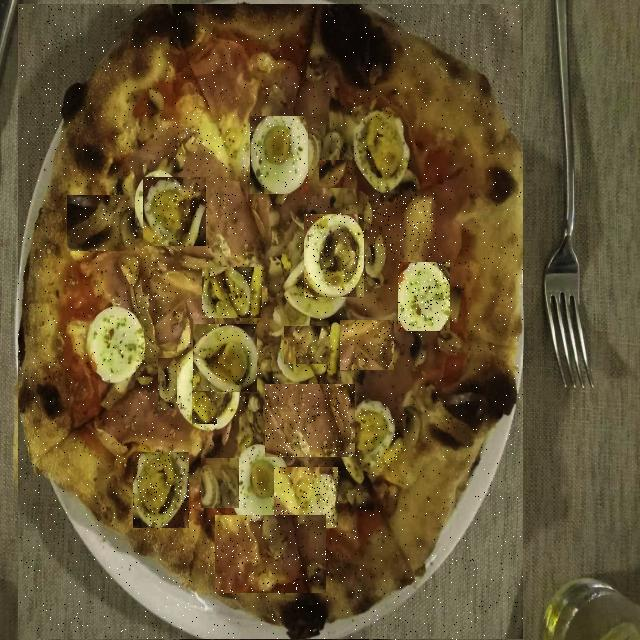Eggs: (304, 214, 364, 297), (250, 116, 308, 194), (144, 177, 208, 246), (193, 324, 257, 392), (133, 452, 189, 528), (274, 467, 338, 528), (398, 262, 451, 331), (202, 267, 262, 318), (358, 408, 405, 473), (192, 392, 217, 426)
Ham: (215, 515, 328, 593), (265, 384, 355, 457), (369, 192, 436, 257), (124, 256, 179, 324), (83, 364, 111, 463), (340, 320, 394, 370), (139, 337, 155, 445)
Mushrooms: (67, 195, 135, 251), (249, 207, 299, 269), (201, 458, 239, 508), (172, 128, 218, 167), (284, 326, 330, 364), (158, 358, 177, 410), (319, 160, 352, 188), (76, 286, 104, 318), (216, 193, 236, 234), (78, 320, 99, 352)
Pizza: (18, 4, 523, 640)
